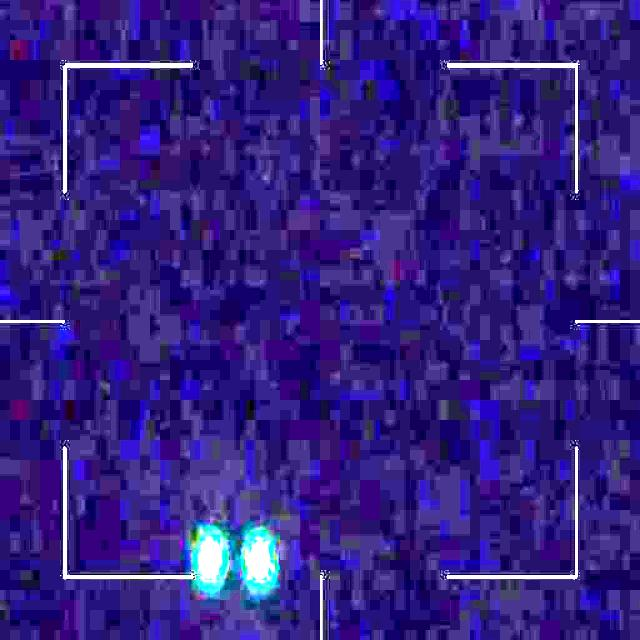bird: (198, 530, 272, 581)
